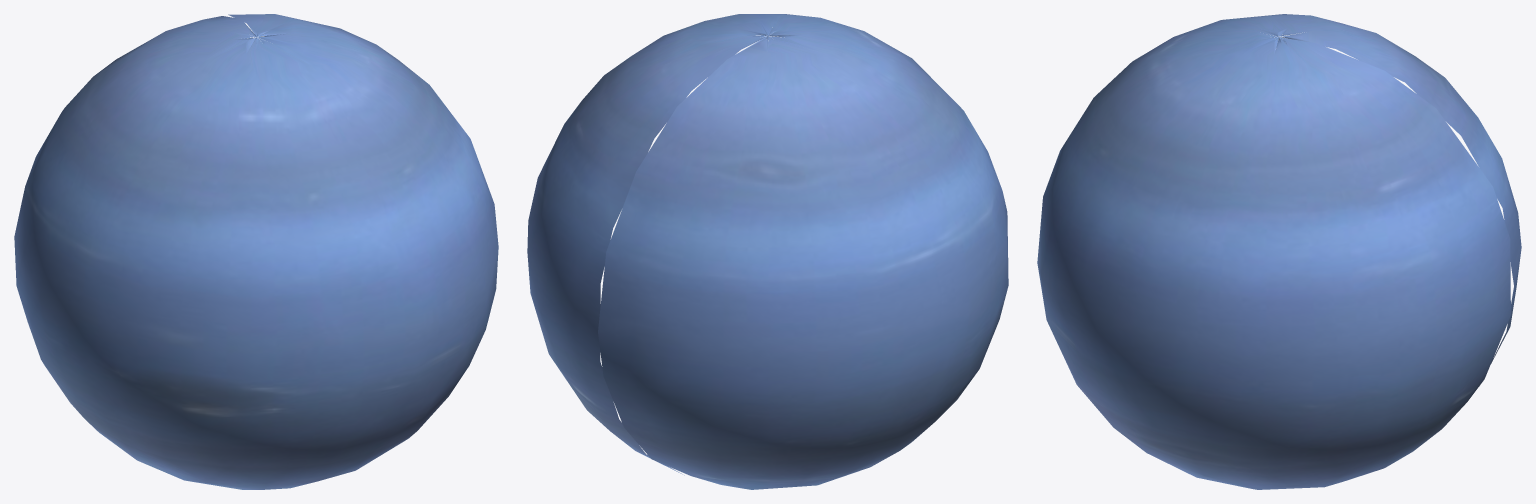
Rendered from neptune-small.glb.
3 views of the same model, side by side, from view 1: azimuth 30°, elevation 25°; view 2: azimuth 150°, elevation 25°; view 3: azimuth 270°, elevation 25° (orthographic).
Visible parts, largest first — view 1: Body; view 2: Body; view 3: Body.
Boxes of the visible parts, <box> form: Body: <box>14,14,498,489</box>; Body: <box>527,14,1008,489</box>; Body: <box>1037,14,1521,489</box>.
Size of the model in its own units: 2 by 1.97 by 2.
Materials: 1 (1 with a texture image).
